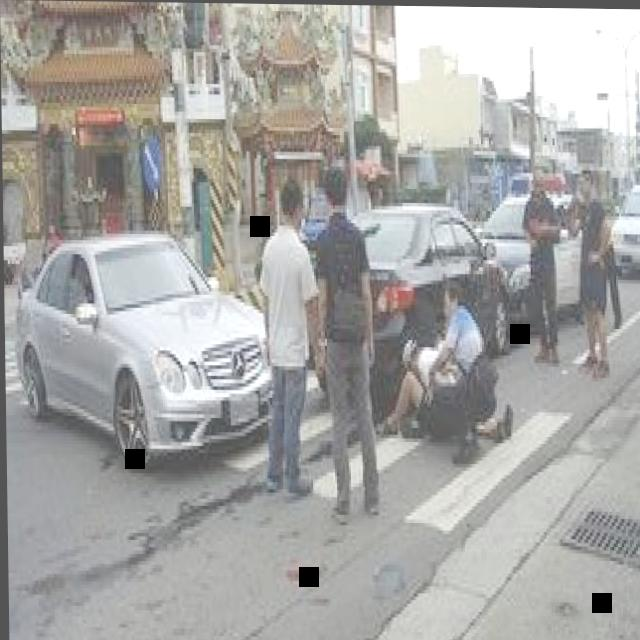Fall-Detected: (368, 324, 510, 463)
